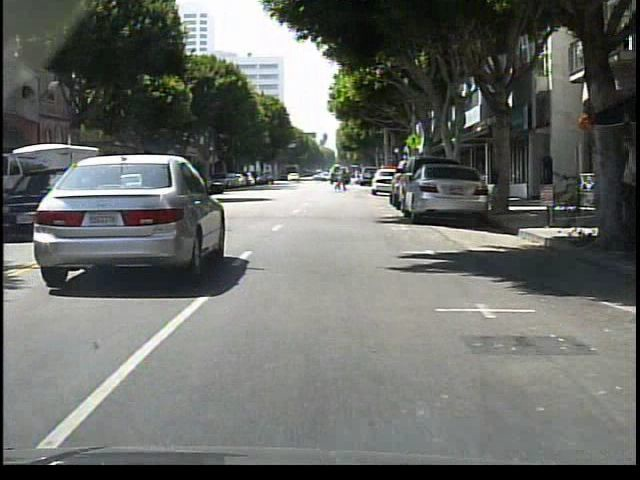person: (599, 135, 637, 243), (333, 168, 348, 193)
